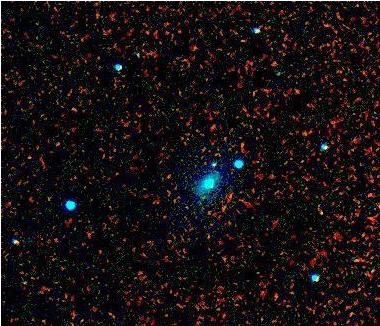star: (62, 92, 92, 122)
